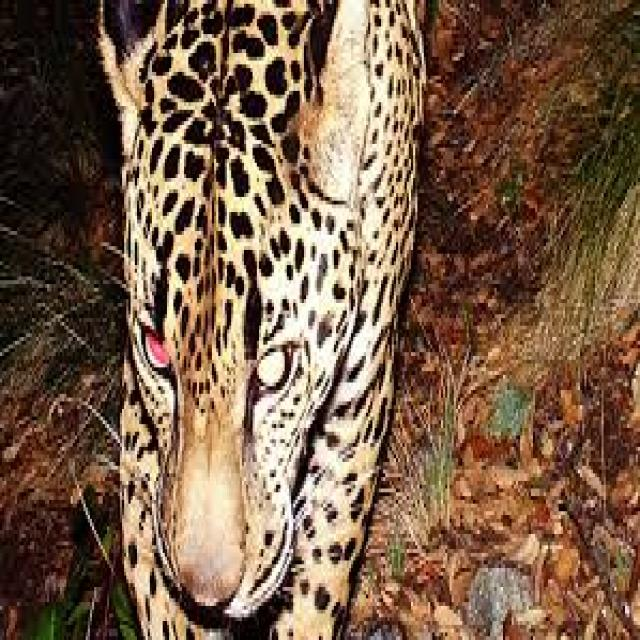Jaguar: (96, 0, 426, 640)
